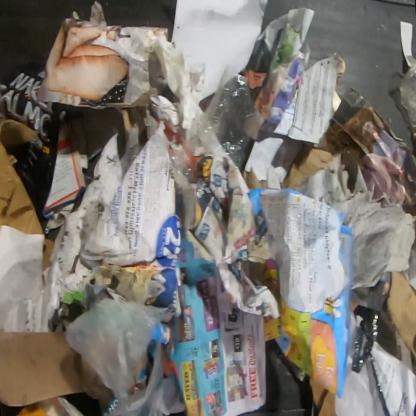cardboard: (246, 188, 354, 400), (0, 327, 117, 406), (42, 104, 88, 234), (0, 120, 45, 236), (281, 135, 343, 191), (382, 270, 415, 360), (308, 375, 337, 415), (117, 106, 144, 144), (401, 202, 416, 250), (130, 353, 148, 388), (42, 236, 54, 271), (350, 301, 359, 316)
rigid_plastic: (352, 312, 398, 416)
soft_plastic: (64, 298, 179, 415), (0, 64, 68, 227), (192, 70, 261, 168), (397, 58, 415, 133), (170, 143, 192, 189)
